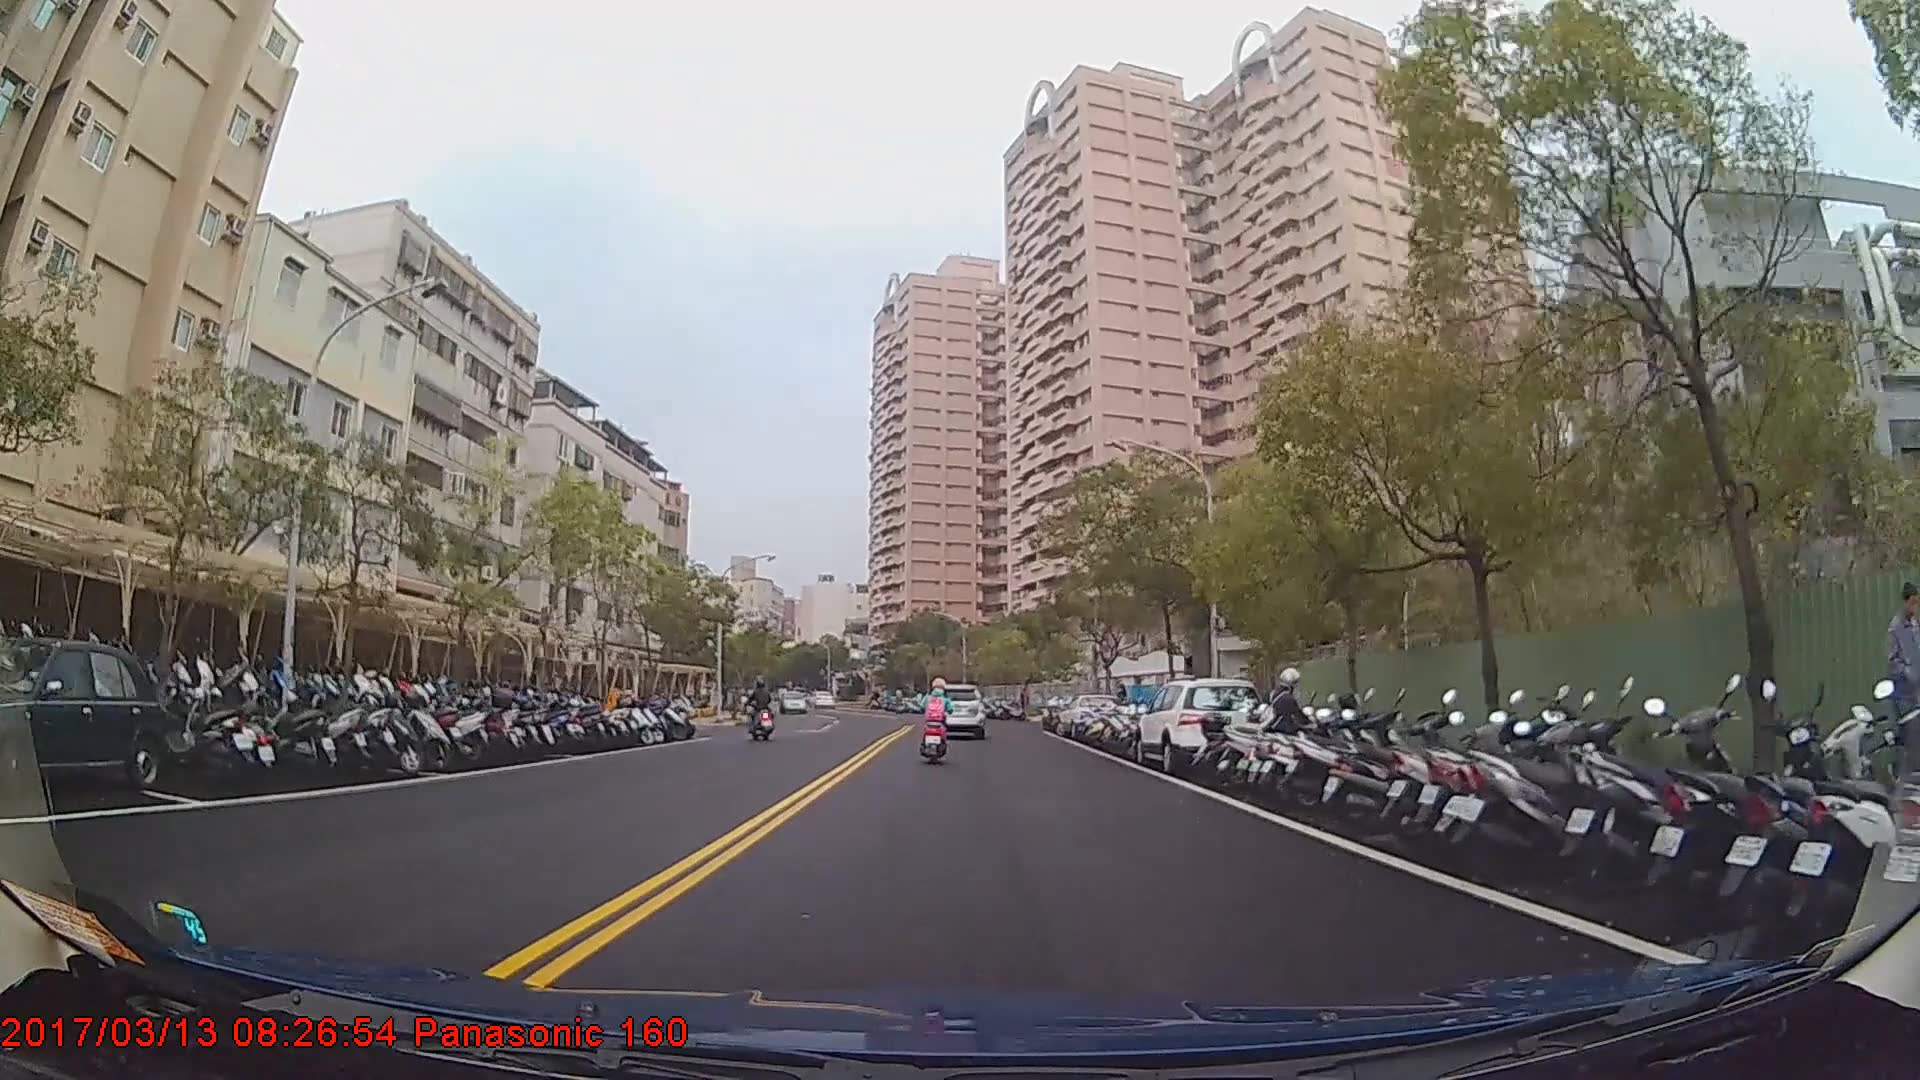pedestrian: (1882, 583, 1920, 785)
rider: (920, 677, 956, 768), (744, 680, 778, 746)
vehicle: (0, 633, 169, 805), (1131, 678, 1263, 775), (927, 683, 985, 738), (776, 690, 807, 713)
